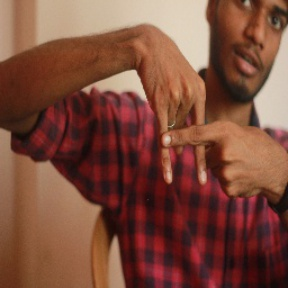H: (136, 87, 235, 191)
